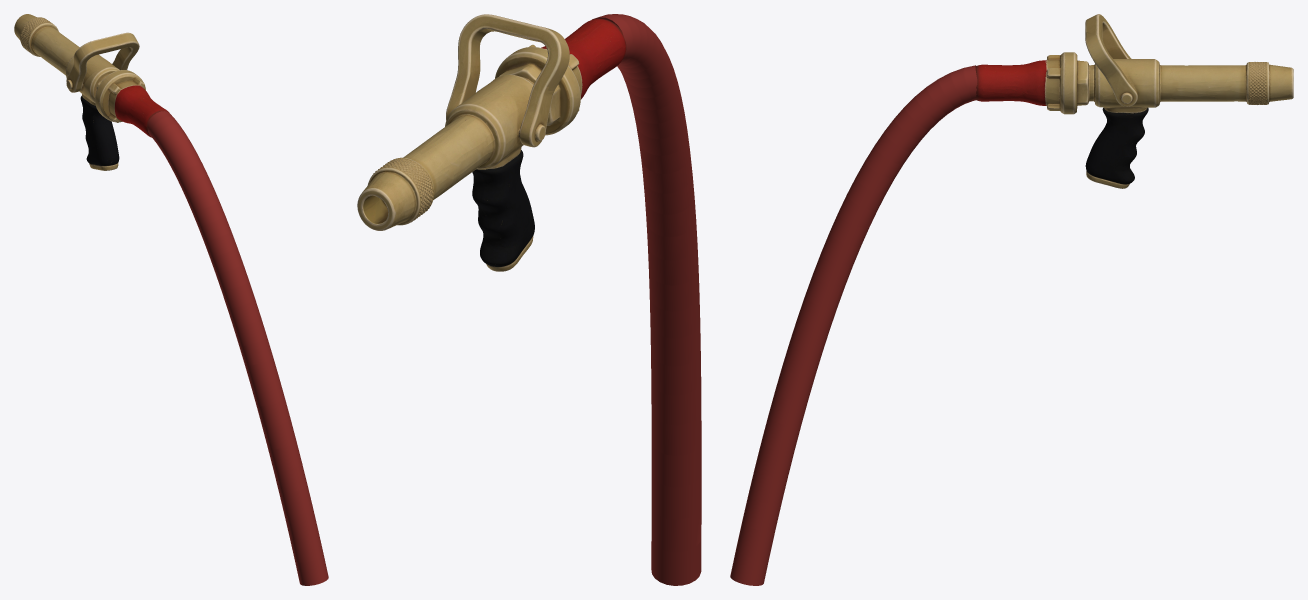
Rendered from lancia_a_pompiere.gltf.
3 views of the same model, side by side, from view 1: azimuth 30°, elevation 25°; view 2: azimuth 150°, elevation 25°; view 3: azimuth 270°, elevation 25° (orthographic). The views are drawn at different scales.
Parts seen in each view (by area): view 1: TuboZaino, Lancia; view 2: Lancia, TuboZaino; view 3: TuboZaino, Lancia.
Part boxes in pixels (<box>): TuboZaino: <box>147,111,328,585</box>; Lancia: <box>14,14,169,170</box>; Lancia: <box>357,14,626,271</box>; TuboZaino: <box>592,14,701,585</box>; TuboZaino: <box>730,65,977,585</box>; Lancia: <box>975,14,1293,188</box>.
Bounding box in the file's own units: 0.2458 × 1.08 × 1.04.
2 materials, 1 textured.
